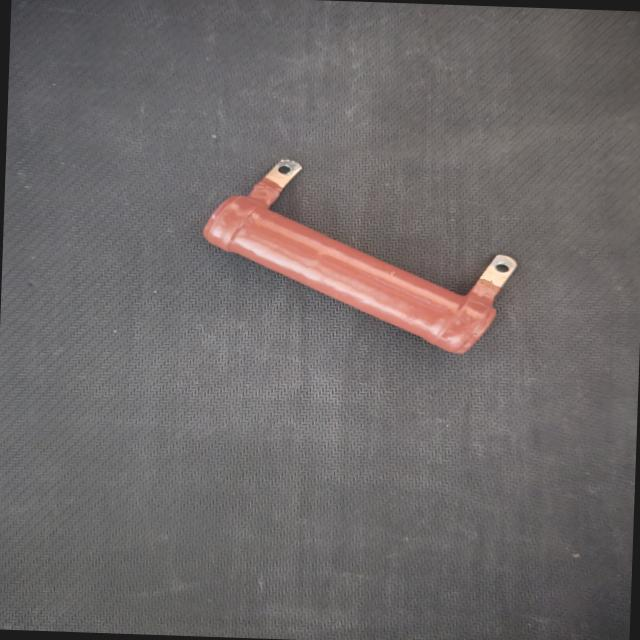resistor: (182, 150, 548, 364)
